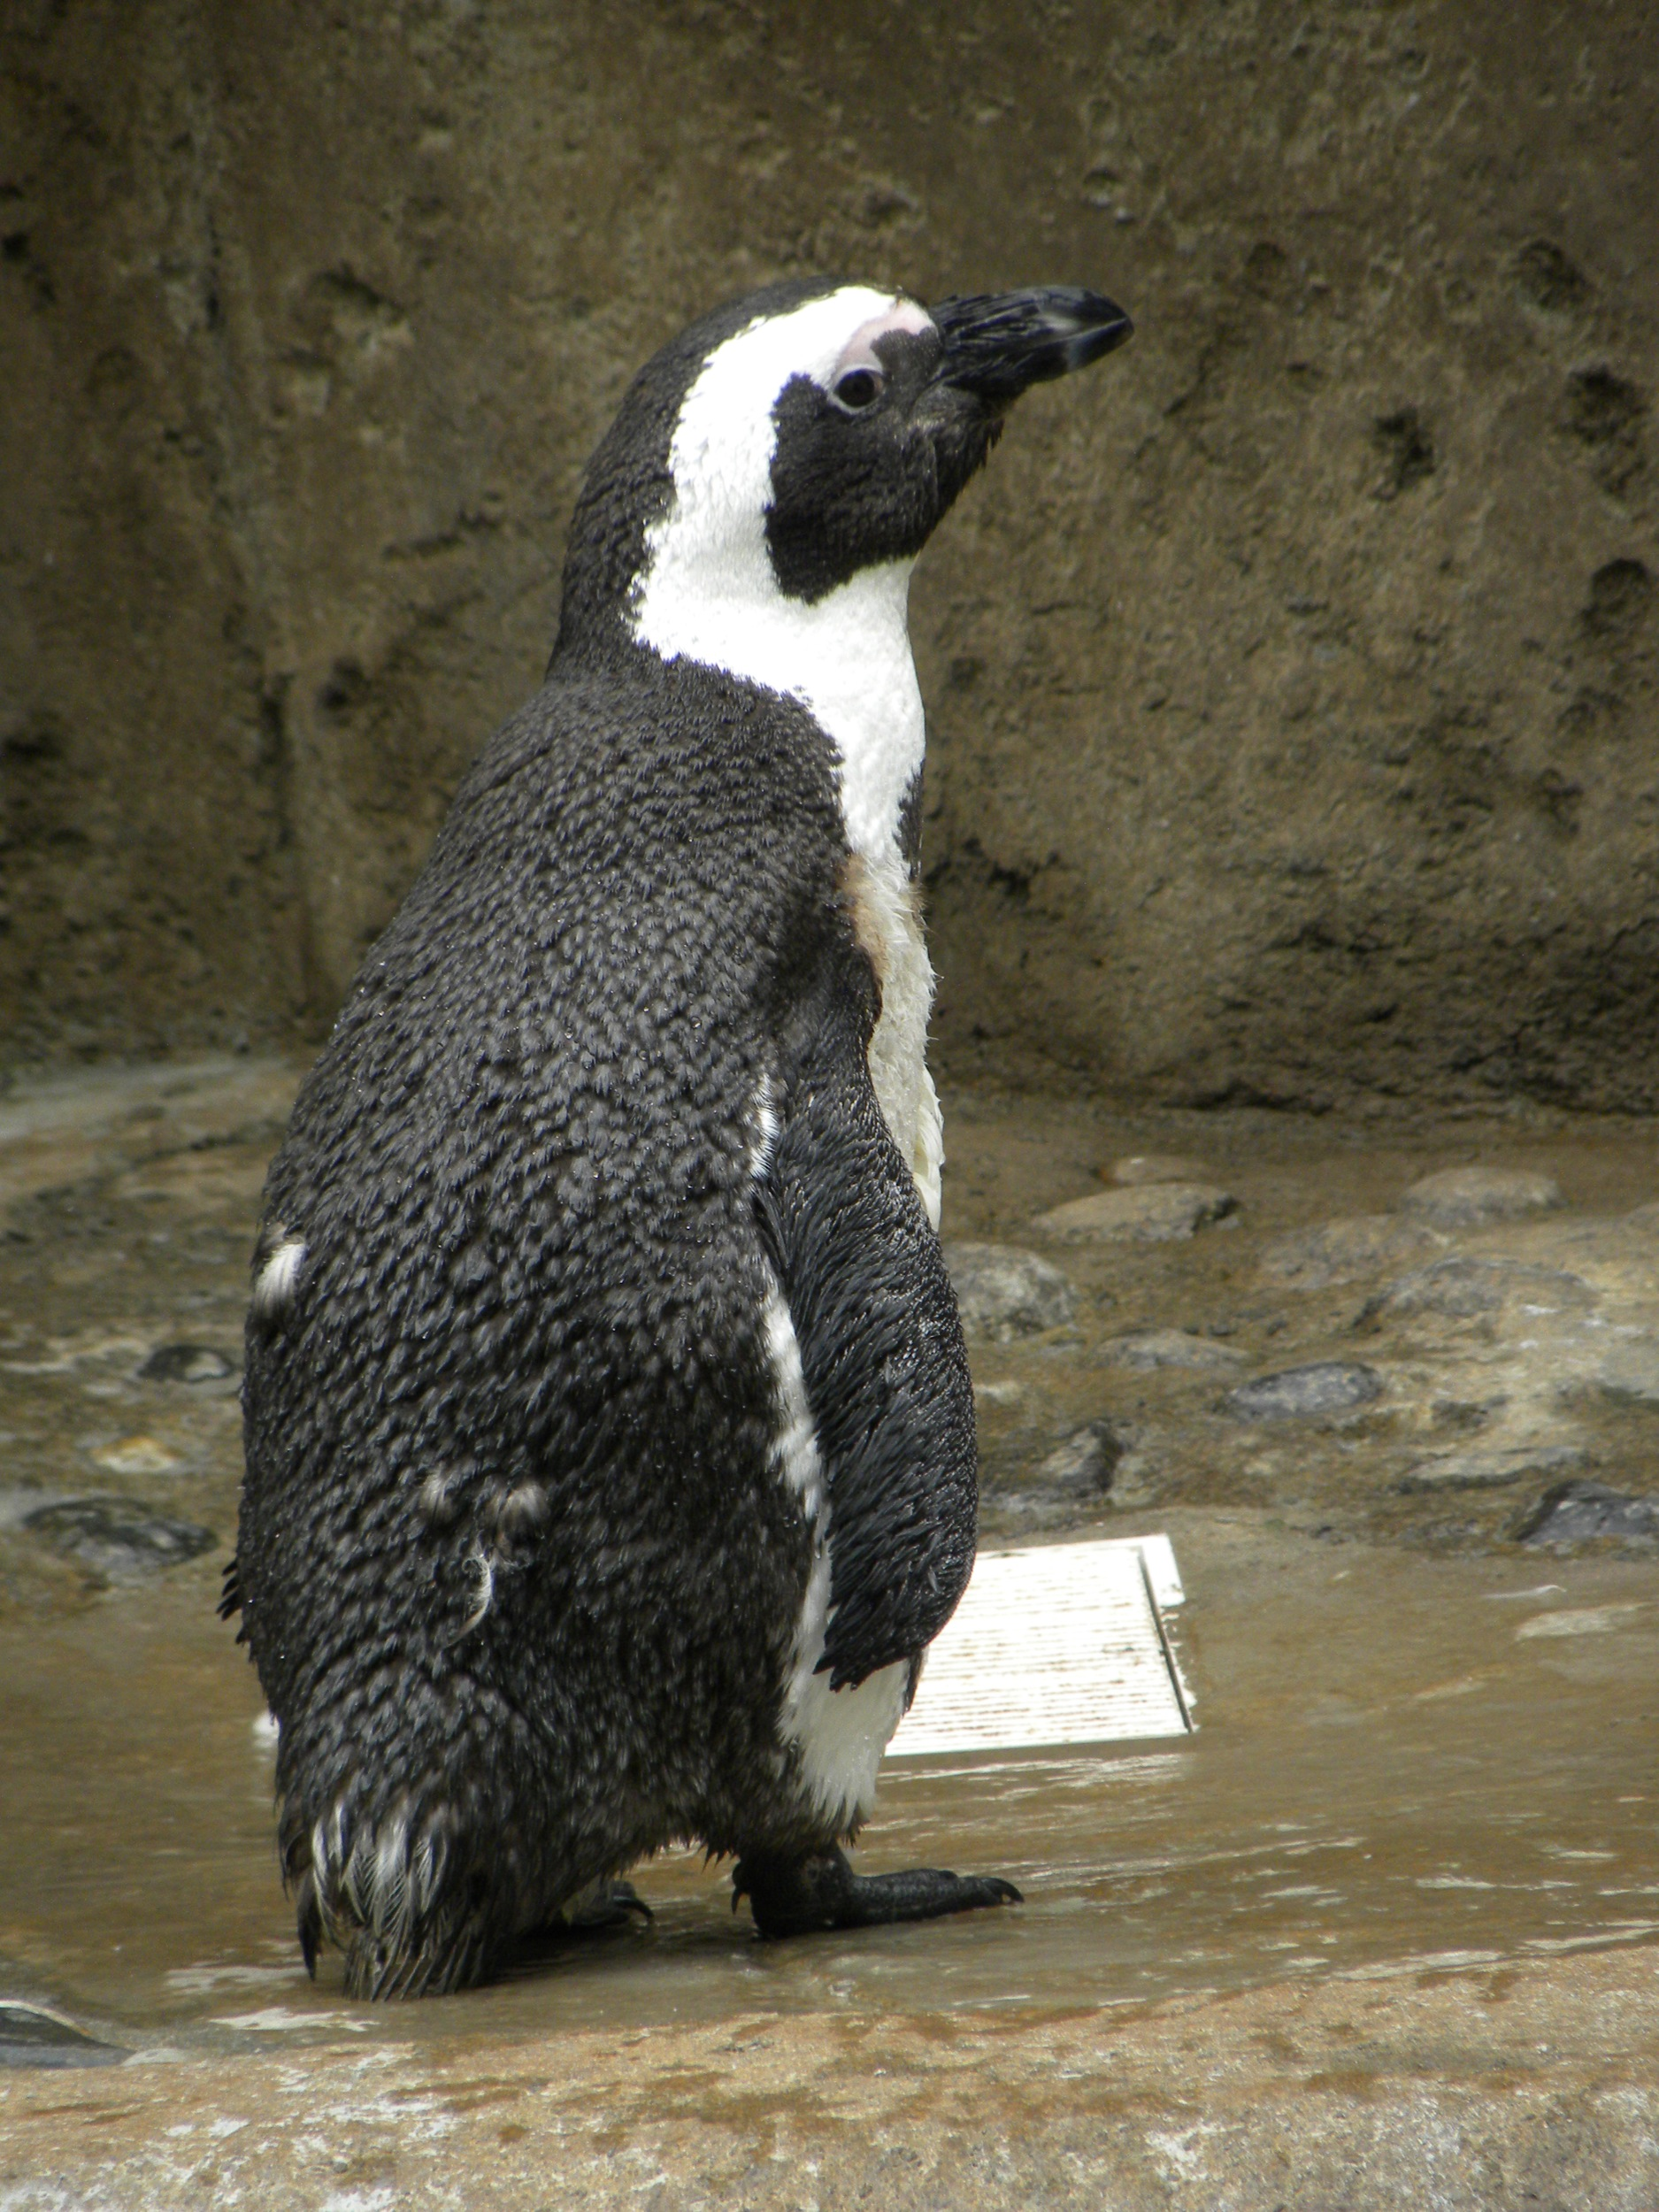penguin: (321, 280, 1152, 1998)
